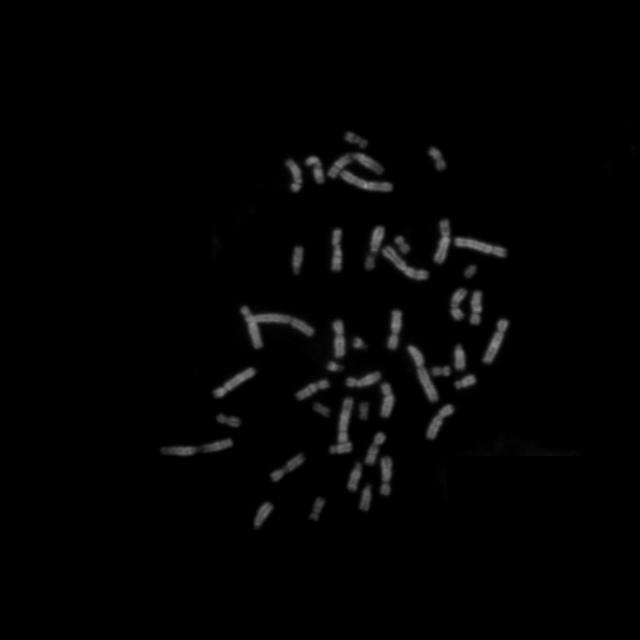chromosome: (406, 345, 439, 401), (243, 312, 314, 338), (382, 247, 430, 281), (328, 152, 384, 178), (161, 437, 233, 457), (213, 368, 257, 398), (340, 170, 394, 192), (454, 236, 508, 258), (270, 452, 306, 482), (427, 403, 455, 441), (484, 320, 508, 364), (364, 225, 386, 271), (240, 305, 262, 349), (434, 218, 451, 264), (305, 154, 325, 188), (365, 431, 385, 465), (387, 308, 403, 350), (296, 378, 328, 399), (252, 501, 276, 529), (347, 369, 381, 388), (338, 397, 352, 443), (378, 458, 394, 498), (284, 159, 302, 193), (450, 288, 468, 320), (331, 228, 344, 272), (468, 291, 484, 325), (380, 382, 394, 418), (333, 320, 345, 358), (346, 462, 362, 490), (346, 130, 368, 150), (216, 412, 240, 430), (452, 344, 468, 370), (429, 147, 446, 171), (309, 497, 325, 521), (313, 401, 332, 419), (292, 246, 304, 274), (330, 442, 354, 456), (456, 374, 476, 390), (360, 485, 372, 511), (395, 236, 411, 254), (352, 336, 368, 354), (431, 364, 449, 378), (359, 401, 369, 423), (326, 361, 344, 373)
